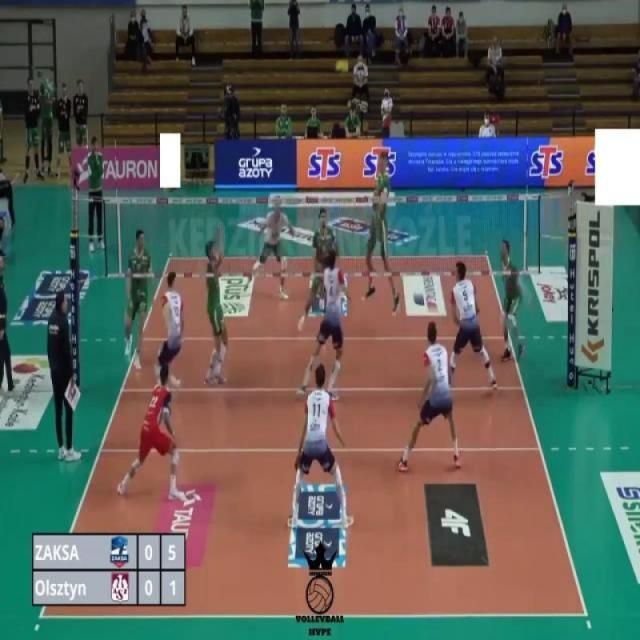volleyball: (334, 56, 351, 76)
